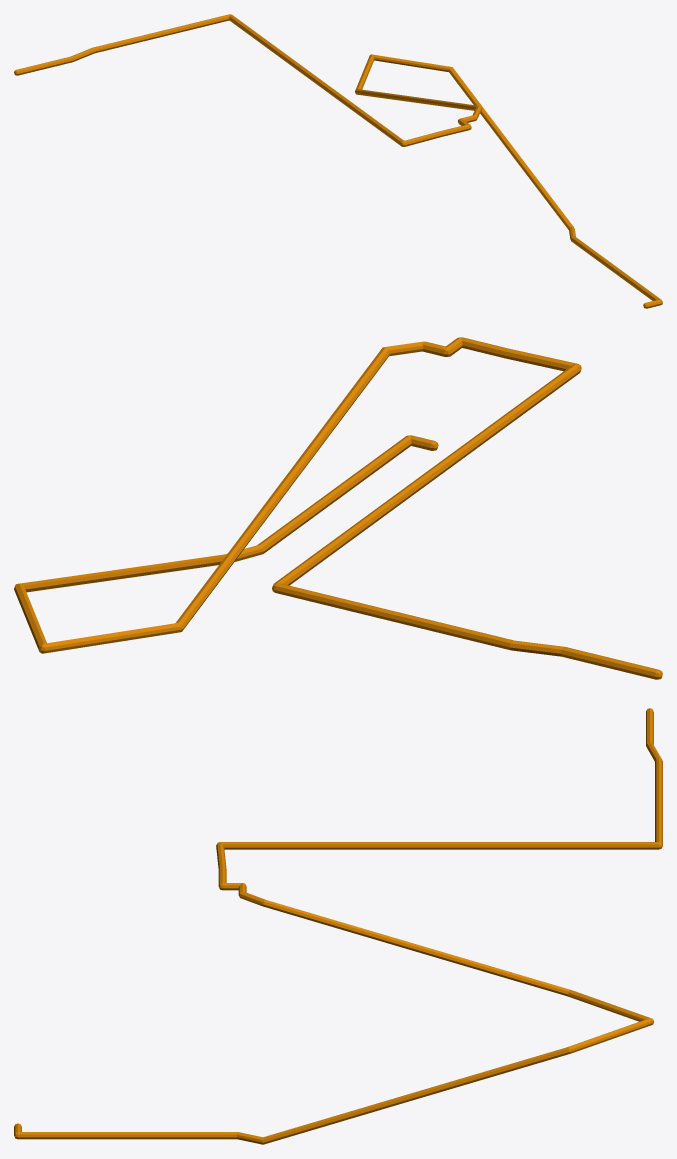
The picture shows the model from 3 angles, top to bottom: view 1: azimuth 30°, elevation 25°; view 2: azimuth 150°, elevation 25°; view 3: azimuth 270°, elevation 25°; orthographic projection. The views are drawn at different scales.
Size of the model in its own units: 1492 by 520 by 1627.
